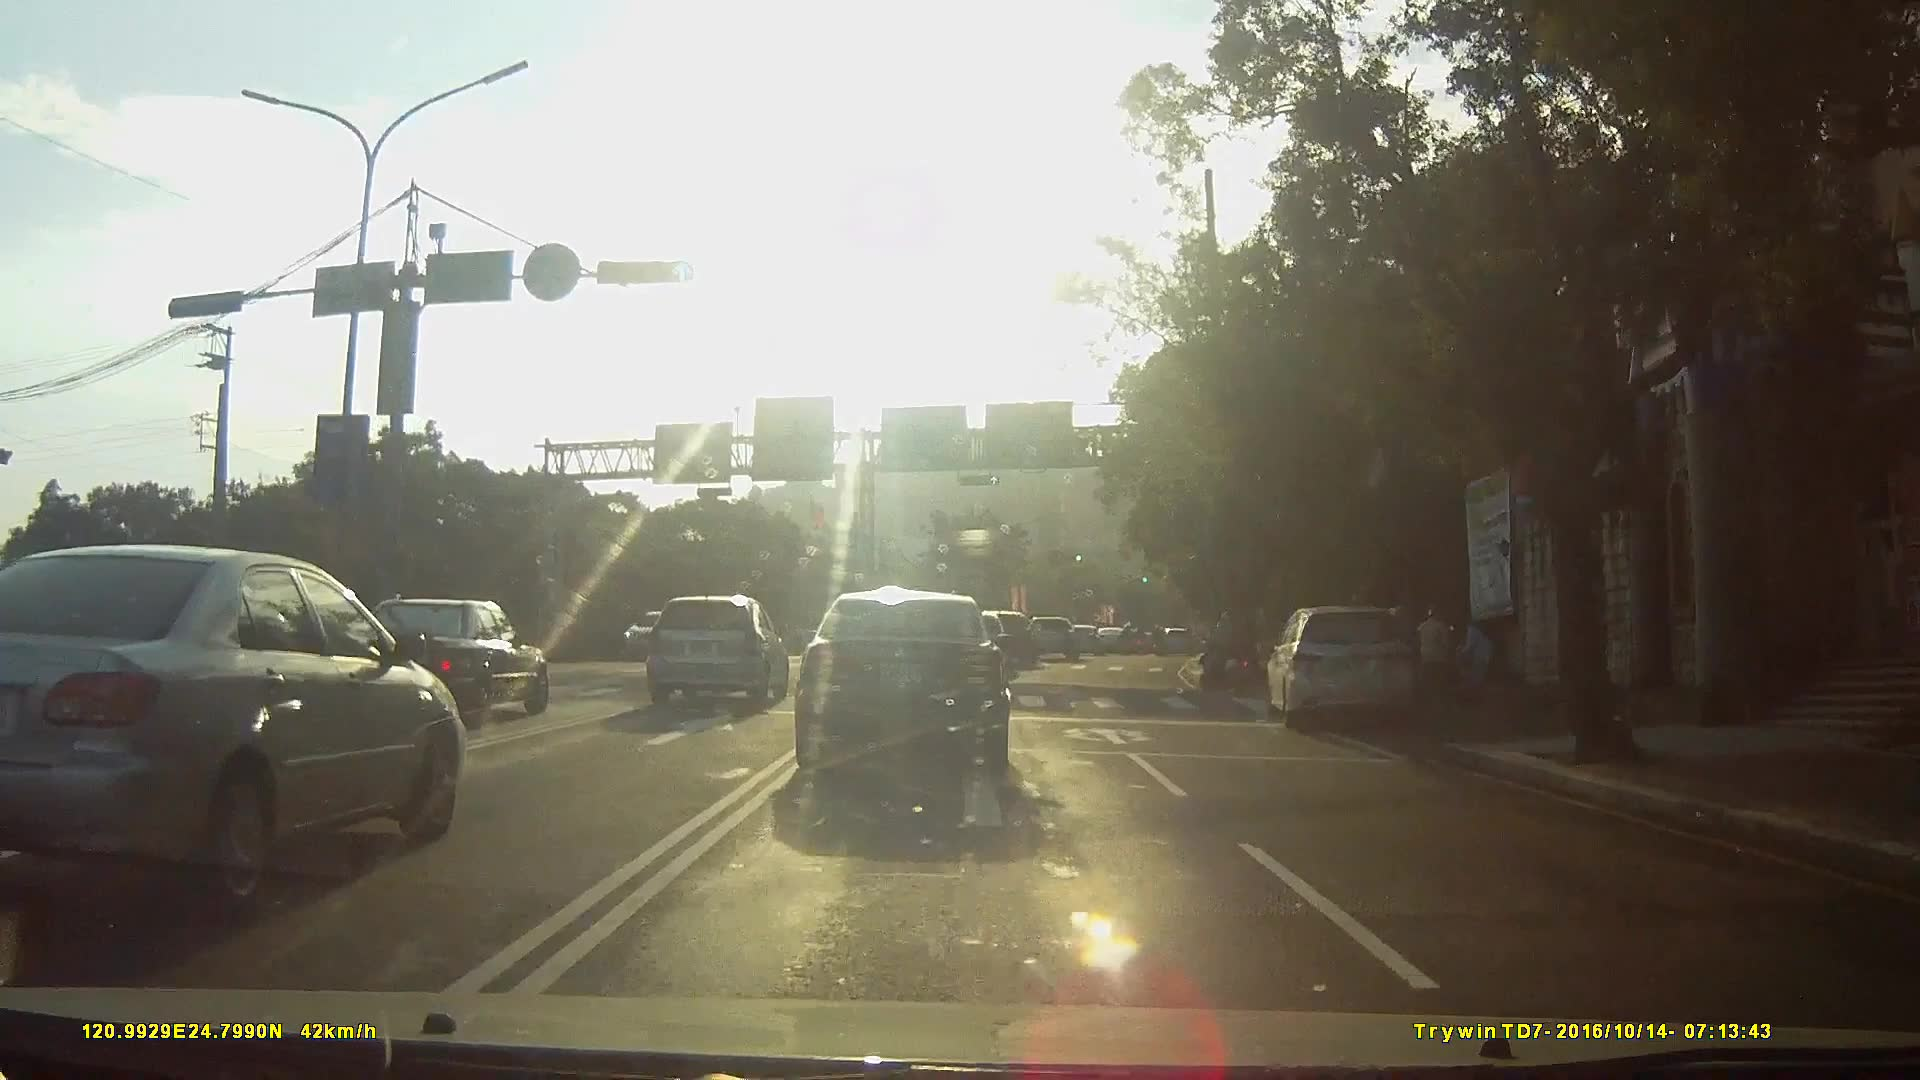pedestrian: (1420, 607, 1462, 725), (1463, 620, 1500, 689)
rider: (1203, 606, 1260, 690)
vehicle: (0, 546, 471, 916), (791, 591, 1032, 798), (342, 596, 559, 726), (1263, 600, 1441, 736), (647, 594, 794, 715), (619, 607, 689, 663), (985, 609, 1047, 667), (1029, 615, 1087, 661), (1069, 623, 1108, 655), (1100, 625, 1133, 653)
